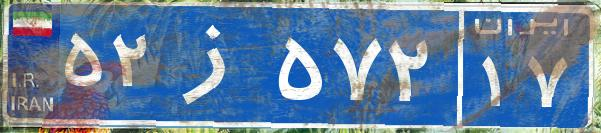1: (475, 38, 525, 113)
2: (385, 28, 445, 110), (110, 28, 158, 105)
5: (273, 28, 330, 110), (57, 26, 110, 107)
7: (330, 28, 385, 110), (525, 38, 570, 115)
ز: (158, 15, 273, 115)
